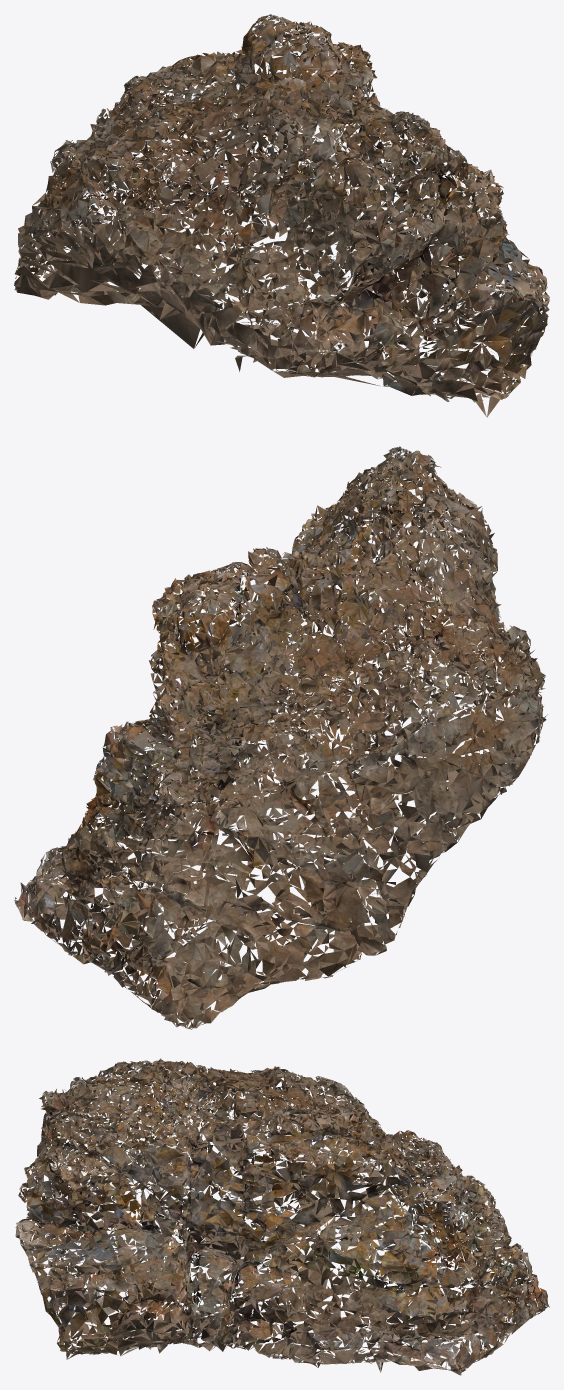
The model's file is boulder.glb.
The picture shows the model from 3 angles, top to bottom: view 1: azimuth 30°, elevation 25°; view 2: azimuth 150°, elevation 25°; view 3: azimuth 270°, elevation 25°; orthographic projection. The views are drawn at different scales.
Parts seen in each view (by area): view 1: boulder; view 2: boulder; view 3: boulder.
Part boxes in pixels (x1,y1,x2,y2): boulder: [14, 14, 549, 417]; boulder: [14, 446, 547, 1029]; boulder: [15, 1058, 549, 1375].
Bounding box in the file's own units: 1.28 × 1.01 × 1.84.
Materials: 1 (1 with a texture image).
